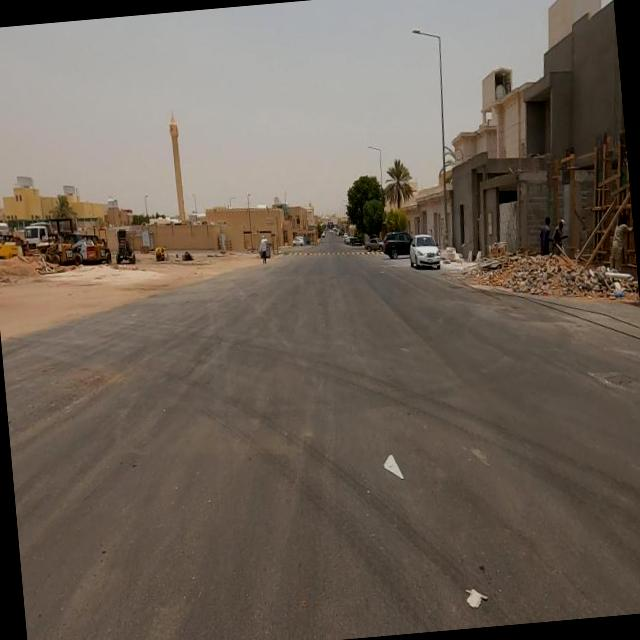debris: (486, 228, 572, 334), (456, 232, 529, 310), (555, 238, 616, 328), (580, 240, 640, 325), (448, 556, 506, 630), (370, 430, 414, 508)
